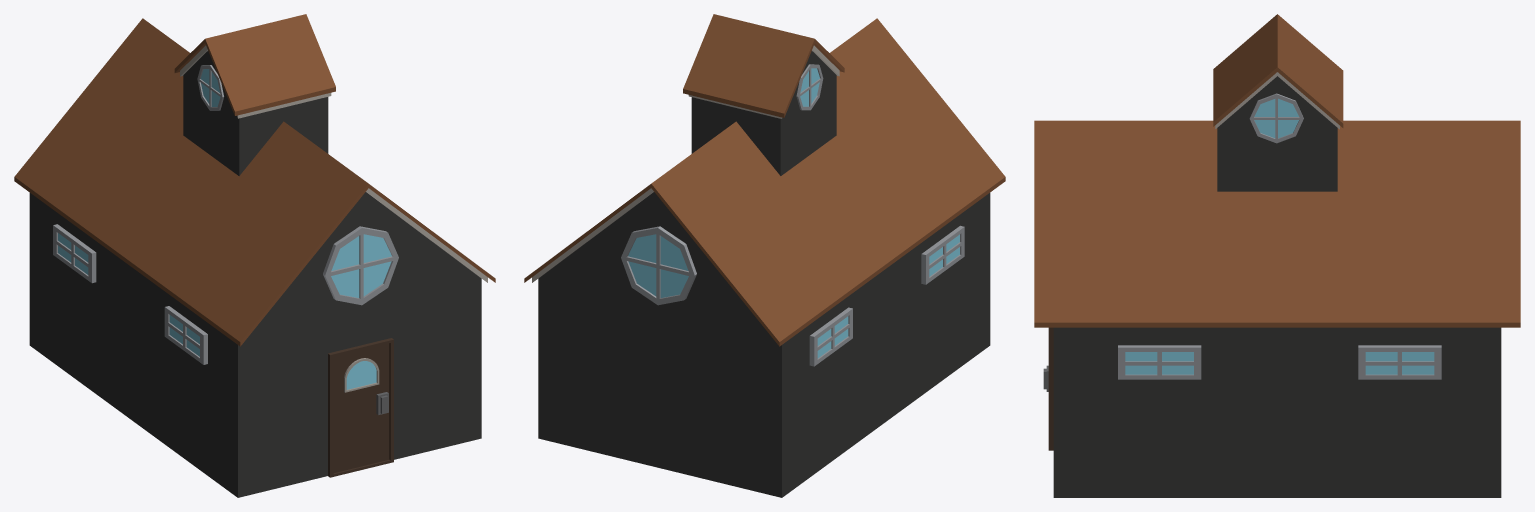
File: SM_house_04_A.gltf
3 renders of one model, left to right at view 1: azimuth 30°, elevation 25°; view 2: azimuth 150°, elevation 25°; view 3: azimuth 270°, elevation 25°, orthographic. The views are drawn at different scales.
Parts seen in each view (by area): view 1: SM_house_04_A; view 2: SM_house_04_A; view 3: SM_house_04_A.
Part boxes in pixels (box(x1,y1,x2,y2)): SM_house_04_A: box(14, 14, 495, 497); SM_house_04_A: box(524, 14, 1005, 497); SM_house_04_A: box(1034, 14, 1520, 497).
Bounding box in the file's own units: 2.19 × 3.01 × 3.37.
